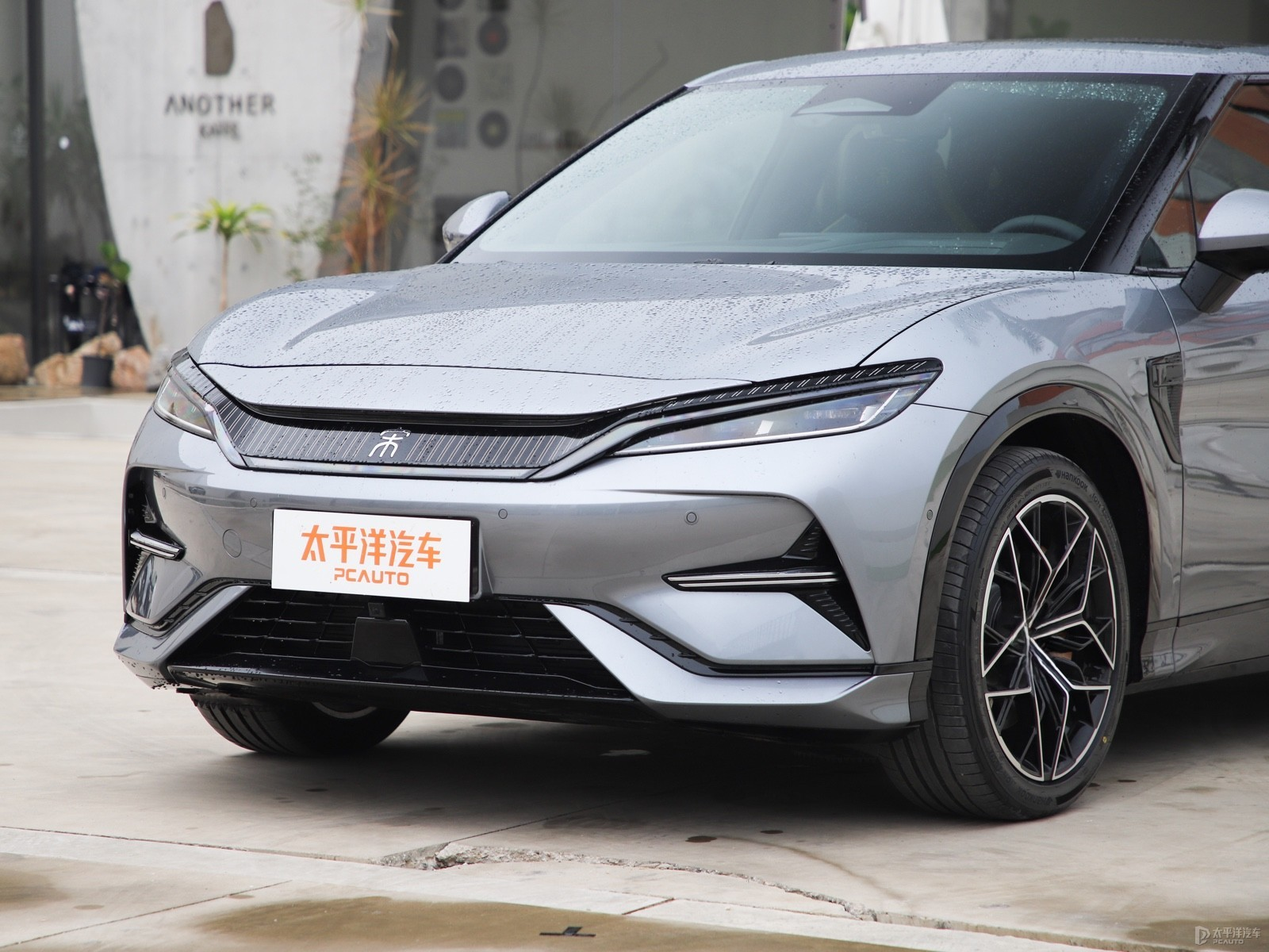BYD Song: (369, 427, 410, 457)
